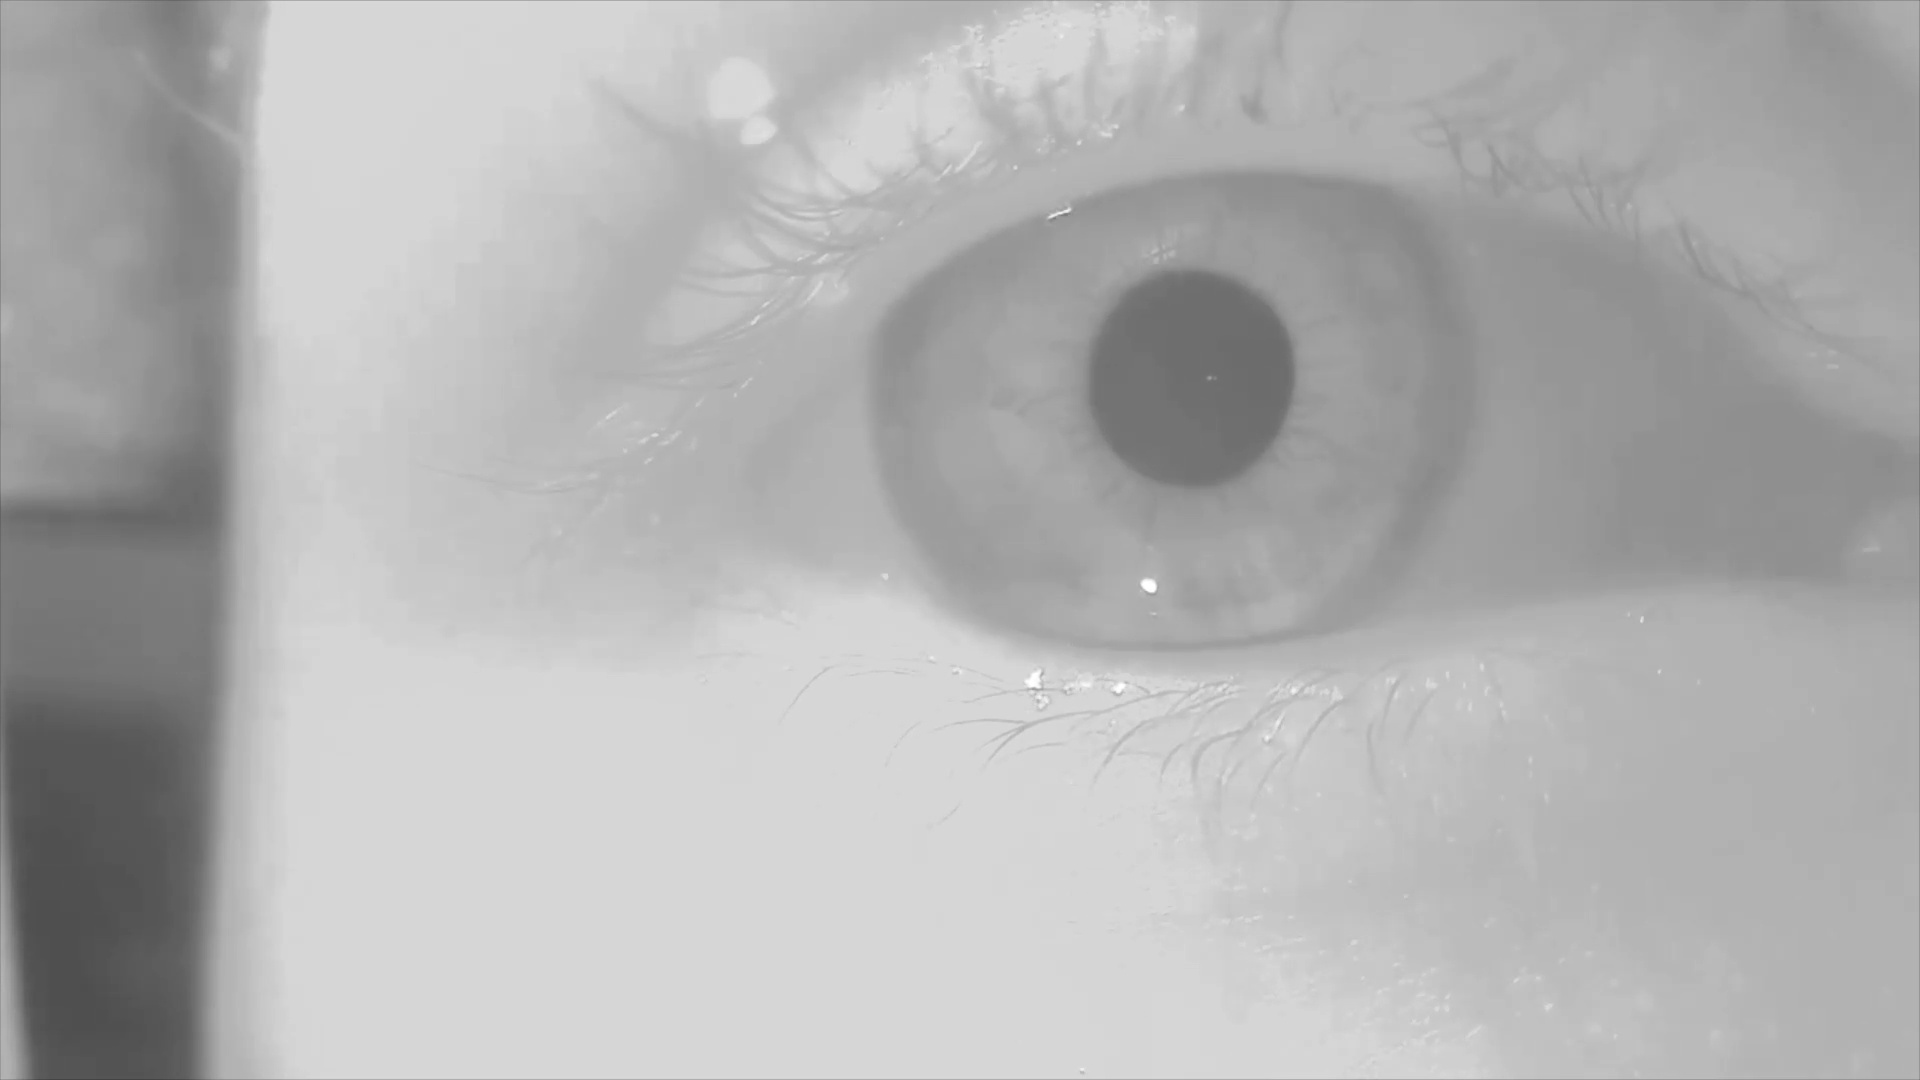pupil: (1081, 276, 1299, 487)
